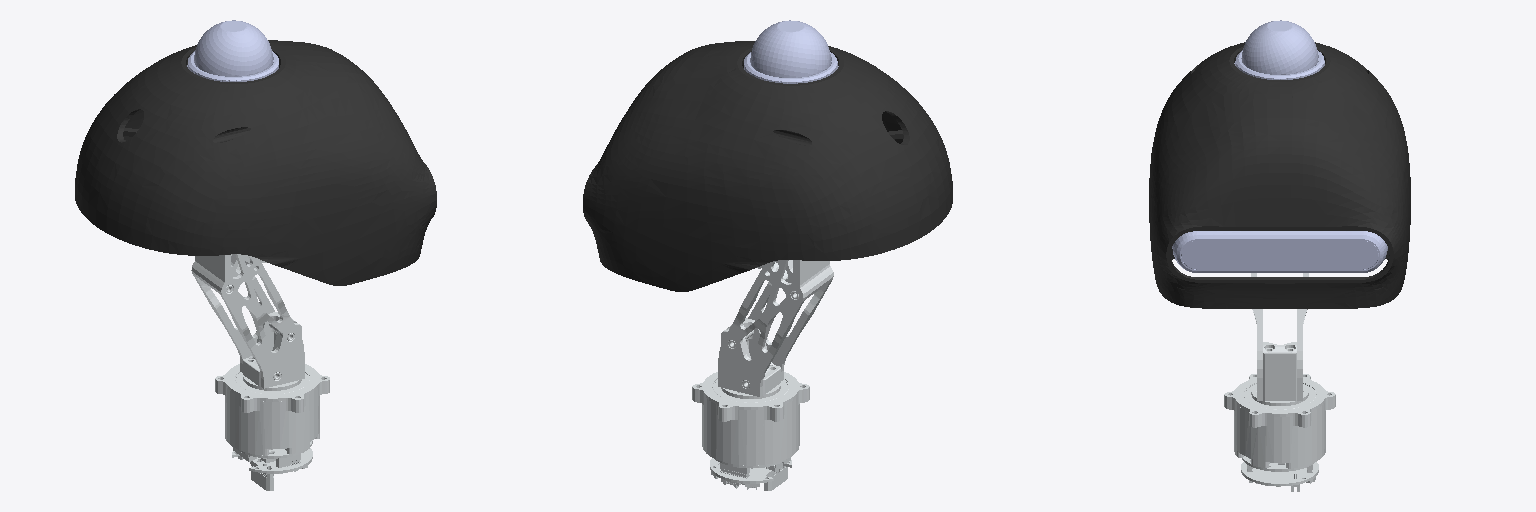
robot.urdf — urdf-head:
<?xml version="1.0" encoding="utf-8"?>
<!-- This URDF was automatically created by SolidWorks to URDF Exporter! Originally created by [author] ([email redacted]) 
     Commit Version: 1.6.0-1-g15f4949  Build Version: 1.6.7594.29634
     For more information, please see http://wiki.ros.org/sw_urdf_exporter -->
<robot
  name="urdf-head">
  <!-- this link makes the robot fixed-base in RAISIM -->
  <link name="world"></link>

  <link name="base_link">
    <!-- edited with custom script -->
    <inertial>
      <origin 
        xyz="-0.00013000000000000002 5.9999999999999995e-05 -0.019559999999999998"
        rpy="0 0 0" />
      <mass
        value="0.22691" />
      <inertia
        ixx="6.726675999999999e-05"
        ixy="-2.4361e-07"
        ixz="-6.3156e-07"
        iyy="6.666816e-05"
        iyz="6.418000000000001e-08"
        izz="7.244472e-05" />
    </inertial>
    <visual>
      <origin
        xyz="0 0 0"
        rpy="0 0 0" />
      <geometry>
        <mesh
          filename="package://urdf-head/meshes/base_link.STL" />
      </geometry>
      <material
        name="">
        <color
          rgba="0.898039215686275 0.917647058823529 0.929411764705882 1" />
      </material>
    </visual>
    <!-- <collision>
      <origin
        xyz="0 0 0"
        rpy="0 0 0" />
      <geometry>
        <mesh
          filename="package://urdf-head/meshes/base_link.STL" />
      </geometry>
    </collision> -->
  </link>

  <joint name="base_world" type="fixed">
    <origin xyz="0 0 0" rpy="0 0 0"/>
    <parent link="world" />
    <child link="base_link" />
    <axis xyz="0 0 0" />
  </joint>

  <link name="neck">
    <!-- edited with custom script -->
    <inertial>
    <origin
        xyz="-0.00621 -0.0005899999999999999 0.09247"
        rpy="0 0 0" />
    <mass
        value="0.38718" />
    <inertia
        ixx="0.00084209162"
        ixy="1.78477e-06"
        ixz="-3.73364e-06"
        iyy="0.00090124031"
        iyz="6.43932e-06"
        izz="0.00015094396" />
    </inertial>
    <visual>
      <origin
        xyz="0 0 0"
        rpy="0 0 0" />
      <geometry>
        <mesh
          filename="package://urdf-head/meshes/neck.STL" />
      </geometry>
      <material
        name="">
        <color
          rgba="0.898039215686275 0.917647058823529 0.929411764705882 1" />
      </material>
    </visual>
    <!-- <collision>
      <origin
        xyz="0 0 0"
        rpy="0 0 0" />
      <geometry>
        <mesh
          filename="package://urdf-head/meshes/neck.STL" />
      </geometry>
    </collision> -->
  </link>
  <joint name="pan"
    type="revolute">
    <origin
      xyz="0 0 0"
      rpy="0 0 0" />
    <parent
      link="base_link" />
    <child
      link="neck" />
    <axis
      xyz="0 0 -1" />
    <limit
      lower="-225"
      upper="225"
      effort="1.57"
      velocity="390" />
  </joint>
  <link name="chin">
    <!-- edited with custom script -->
    <inertial>
    <origin
        xyz="0.00292 -0.00883 -0.01141"
        rpy="0 0 0" />
    <mass
        value="0.06976" />
    <inertia
        ixx="4.2354910000000004e-05"
        ixy="-1.650247e-05"
        ixz="3.6080700000000003e-06"
        iyy="6.330044e-05"
        iyz="-3.7976999999999997e-07"
        izz="6.109326e-05" />
    </inertial>
    <visual>
      <origin
        xyz="0 0 0"
        rpy="0 0 0" />
      <geometry>
        <mesh
          filename="package://urdf-head/meshes/chin.STL" />
      </geometry>
      <material
        name="">
        <color
          rgba="0.752941176470588 0.752941176470588 0.752941176470588 1" />
      </material>
    </visual>
    <!-- <collision>
      <origin
        xyz="0 0 0"
        rpy="0 0 0" />
      <geometry>
        <mesh
          filename="package://urdf-head/meshes/chin.STL" />
      </geometry>
    </collision> -->
  </link>
  <joint name="tilt"
    type="revolute">
    <origin
      xyz="0 0.0186 0.12"
      rpy="-1.5708 0 0" />
    <parent
      link="neck" />
    <child
      link="chin" />
    <axis
      xyz="0 0 -1" />
    <limit
      lower="-1.0472"
      upper="0.83776"
      effort="1.57"
      velocity="390" />
  </joint>
  <link name="face">
    <!-- edited with custom script -->
    <inertial>
    <origin
        xyz="-0.011550000000000001 -0.02876 -0.01864"
        rpy="0 0 0" />
    <mass
        value="0.18813" />
    <inertia
        ixx="0.0006845556"
        ixy="-7.591147e-05"
        ixz="1.6041e-07"
        iyy="0.0010570050700000001"
        iyz="2.1684999999999999e-07"
        izz="0.00072350371" />
    </inertial>
    <visual>
      <origin
        xyz="0 0 0"
        rpy="0 0 0" />
      <geometry>
        <mesh
          filename="package://urdf-head/meshes/face.STL" />
      </geometry>
      <material
        name="">
        <color
          rgba="0.250980392156863 0.250980392156863 0.250980392156863 1" />
      </material>
    </visual>
    <!-- <collision>
      <origin
        xyz="0 0 0"
        rpy="0 0 0" />
      <geometry>
        <mesh
          filename="package://urdf-head/meshes/face.STL" />
      </geometry>
    </collision> -->
  </link>
  <joint name="chin_face"
    type="fixed">
    <origin
      xyz="0 0 0"
      rpy="0 0 0" />
    <parent
      link="chin" />
    <child
      link="face" />
    <axis
      xyz="0 0 0" />
  </joint>
  <link name="d455_link">
    <!-- edited with custom script -->
    <inertial>
    <origin
        xyz="0.01298 5e-05 -0.00014000000000000001"
        rpy="0 0 0" />
    <mass
        value="0.12" />
    <inertia
        ixx="0.00014290851000000002"
        ixy="3.955e-08"
        ixz="-1.4216e-07"
        iyy="1.328332e-05"
        iyz="6.73e-08"
        izz="0.00014208451" />
    </inertial>
    <visual>
      <origin
        xyz="0 0 0"
        rpy="0 0 0" />
      <geometry>
        <mesh
          filename="package://urdf-head/meshes/d455_link.STL" />
      </geometry>
      <material
        name="">
        <color
          rgba="0.792156862745098 0.819607843137255 0.933333333333333 1" />
      </material>
    </visual>
    <!-- <collision>
      <origin
        xyz="0 0 0"
        rpy="0 0 0" />
      <geometry>
        <mesh
          filename="package://urdf-head/meshes/d455_link.STL" />
      </geometry>
    </collision> -->
  </link>
  <joint name="chin_d455"
    type="fixed">
    <origin
      xyz="0.042 0 -0.0186"
      rpy="1.5708 0 0" />
    <parent
      link="chin" />
    <child
      link="d455_link" />
    <axis
      xyz="0 0 0" />
  </joint>
  <link name="mid360_link">
    <!-- edited with custom script -->
    <inertial>
    <origin
        xyz="-0.0002 -1e-05 0.02203"
        rpy="0 0 0" />
    <mass
        value="0.265" />
    <inertia
        ixx="0.00012374566"
        ixy="-1.1019999999999999e-08"
        ixz="-1.964e-08"
        iyy="0.00013334891"
        iyz="-3.4840000000000006e-08"
        izz="0.0001322739" />
    </inertial>
    <visual>
      <origin
        xyz="0 0 0"
        rpy="0 0 0" />
      <geometry>
        <mesh
          filename="package://urdf-head/meshes/mid360_link.STL" />
      </geometry>
      <material
        name="">
        <color
          rgba="0.792156862745098 0.819607843137255 0.933333333333333 1" />
      </material>
    </visual>
    <!-- <collision>
      <origin
        xyz="0 0 0"
        rpy="0 0 0" />
      <geometry>
        <mesh
          filename="package://urdf-head/meshes/mid360_link.STL" />
      </geometry>
    </collision> -->
  </link>
  <joint name="chin_mid360"
    type="fixed">
    <origin
      xyz="-0.025 -0.042 -0.0186"
      rpy="1.5708 0 0" />
    <parent
      link="chin" />
    <child
      link="mid360_link" />
    <axis
      xyz="0 0 0" />
  </joint>
</robot>

--- Render facts (derived) ---
Views: 3 orthographic renders of the robot side by side, from view 1: azimuth 30°, elevation 25°; view 2: azimuth 150°, elevation 25°; view 3: azimuth 270°, elevation 25°.
Robot: urdf-head — 7 links, 6 joints (2 revolute, 4 fixed); root link world; default pose: every joint at zero.
Links seen in each view (by area): view 1: face, neck, base_link, mid360_link; view 2: face, base_link, neck, mid360_link; view 3: face, d455_link, base_link, mid360_link, neck.
Link boxes in pixels (bbox=[...]): face: bbox=[75, 40, 436, 285]; neck: bbox=[191, 254, 304, 390]; base_link: bbox=[215, 364, 329, 490]; mid360_link: bbox=[187, 20, 278, 81]; face: bbox=[583, 41, 952, 291]; base_link: bbox=[692, 372, 809, 490]; neck: bbox=[718, 260, 833, 398]; mid360_link: bbox=[744, 20, 838, 83]; face: bbox=[1149, 42, 1410, 308]; d455_link: bbox=[1172, 231, 1387, 272]; base_link: bbox=[1224, 374, 1335, 491]; mid360_link: bbox=[1234, 20, 1324, 79]; neck: bbox=[1251, 273, 1308, 405].
Size in the robot's own frame: 0.1817 by 0.1508 by 0.2811 metres.
Meshes: 6 distinct files referenced, 6 mesh visuals loaded (6 binary STL).